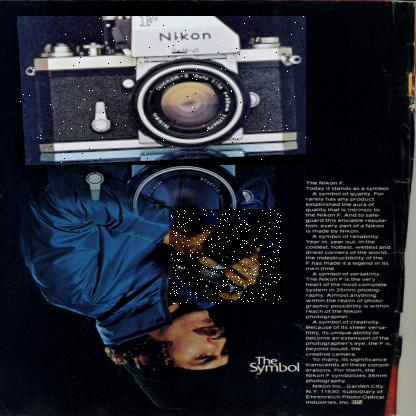Camera: (18, 17, 308, 167), (170, 211, 283, 307)
